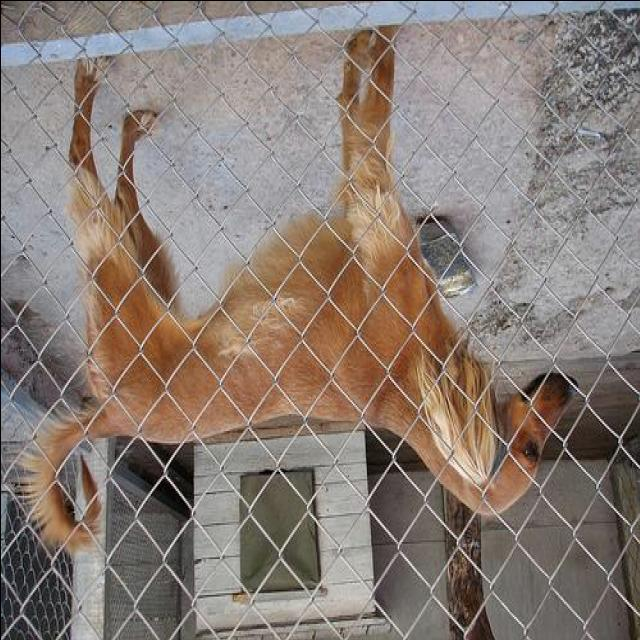saluki: (13, 24, 580, 555)
